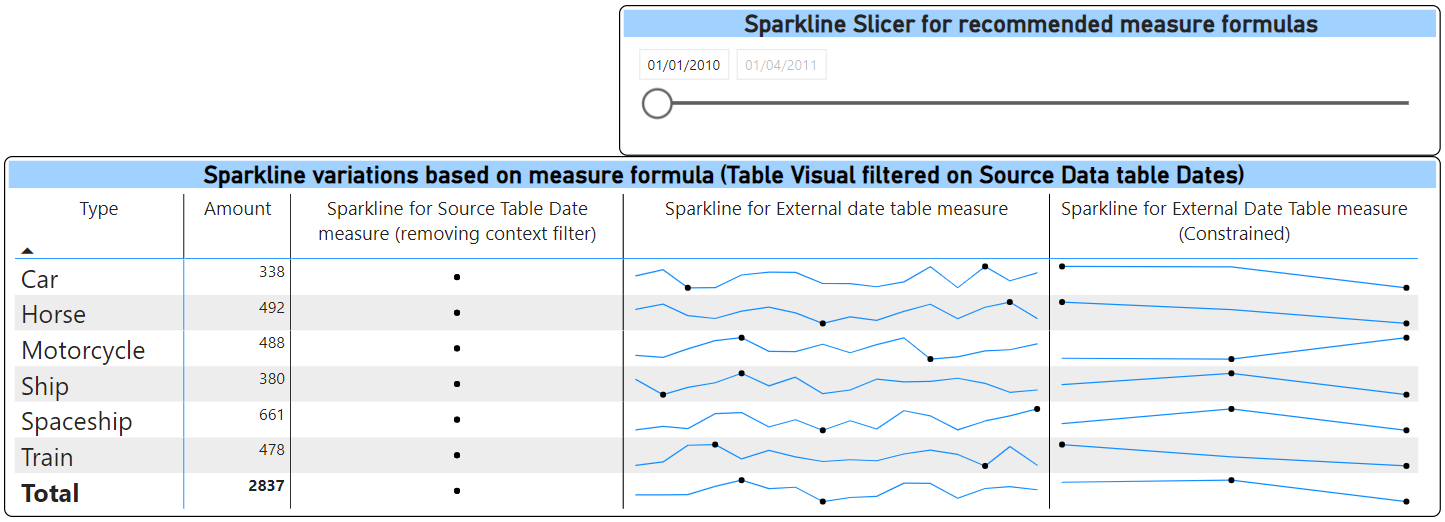

This screenshot's page, from the dashboard's own definition file:
{"tool":"powerbi","page":{"name":"Page 1","canvas":[1280,720],"ordinal":0},"visuals":[{"type":"pivotTable","title":"Sparkline variations based on measure formula (Table Visual filtered on Source Data table Dates)","fields":{"Rows":["Transactions.Type"],"Values":["Sum(Transactions.Amount)","SparklineData(Transactions.mAmount_[Transactions.TransactionDate])","SparklineData(Transactions.AllHistoryAmount_[ExternalPivotTransactionDates.ExternalPivotTransactionDate])","SparklineData(Transactions.T3MAmount_[ExternalPivotTransactionDates.ExternalPivotTransactionDate])"]},"box":[41.1,268.3,1210.1,304.1],"z":0},{"type":"slicer","title":"Sparkline Slicer for recommended measure formulas","fields":{"Values":["ExternalPivotTransactionDates.ExternalPivotTransactionDate"]},"box":[559,141.3,692.3,127],"z":1000}]}

Visuals, with their boxes on the page's 1280x720 design canvas (x1, y1, x2, y2). These are canvas units, not pixel positions in the 1445x522 screenshot, which may show the page scaled, cropped or inside an application window:
"Sparkline variations based on measure formula (Table Visual filtered on Source Data table Dates)" pivotTable: <region>41, 268, 1251, 572</region>
"Sparkline Slicer for recommended measure formulas" slicer: <region>559, 141, 1251, 268</region>
